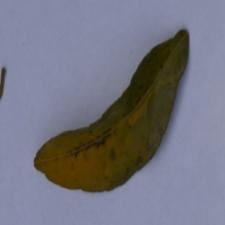Greening: (66, 25, 176, 202)
